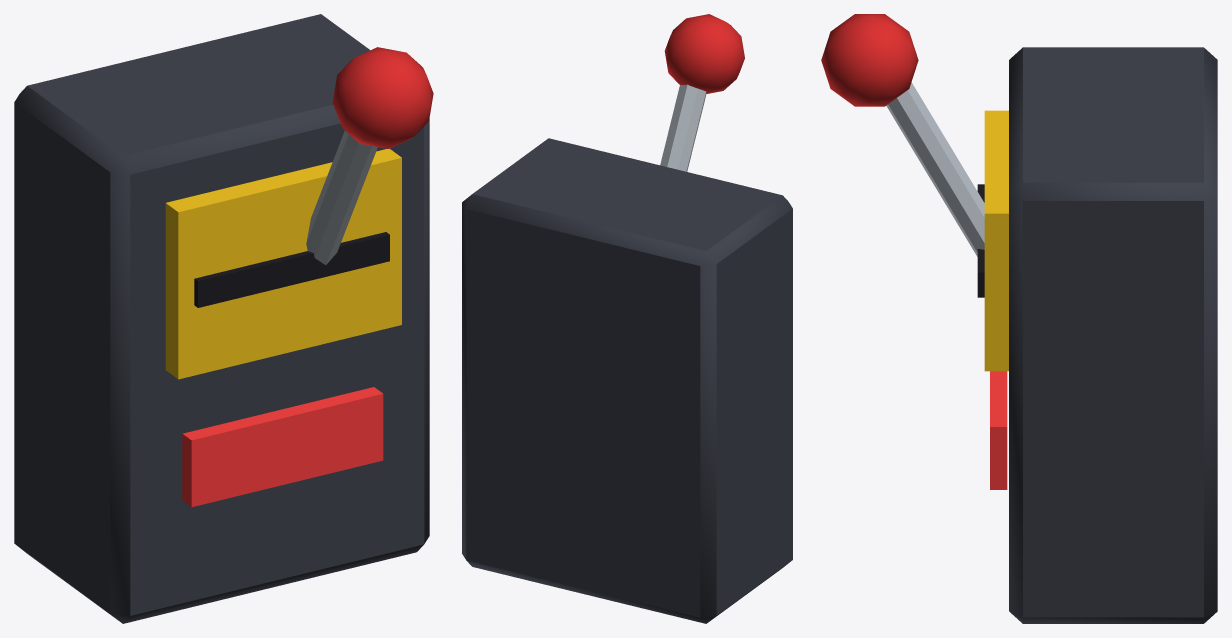
The model's file is big_red_switch.glb.
3 renders of one model, left to right at view 1: azimuth 30°, elevation 25°; view 2: azimuth 150°, elevation 25°; view 3: azimuth 270°, elevation 25°, orthographic. The views are drawn at different scales.
Visible parts, largest first — view 1: big_red_switch; view 2: big_red_switch; view 3: big_red_switch.
Part boxes in pixels (box(x1,y1,x2,y2)): big_red_switch: box(14, 14, 433, 623); big_red_switch: box(462, 14, 792, 623); big_red_switch: box(821, 14, 1217, 623).
Size of the model in its own units: 1 by 1.76 by 1.14.
